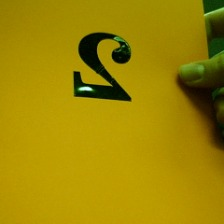orange2: (69, 30, 138, 106)
